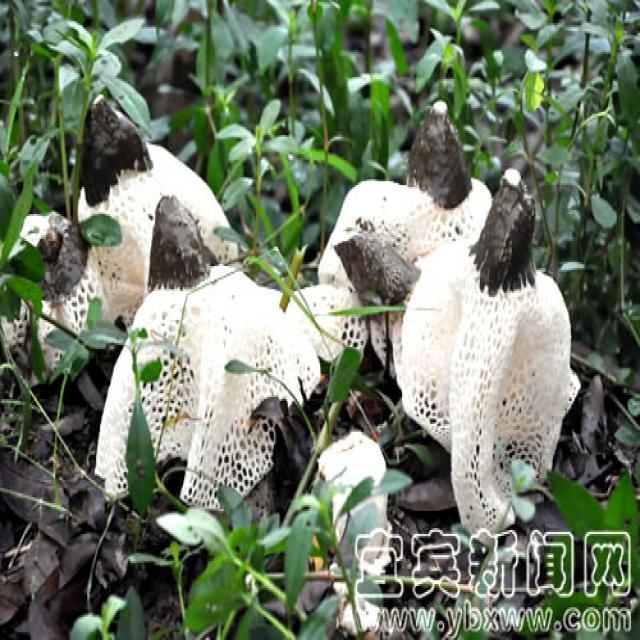Dictyophora indusiate: (94, 195, 320, 513), (431, 181, 582, 533), (320, 106, 490, 301), (73, 94, 237, 270), (333, 227, 455, 450), (8, 210, 101, 357)
